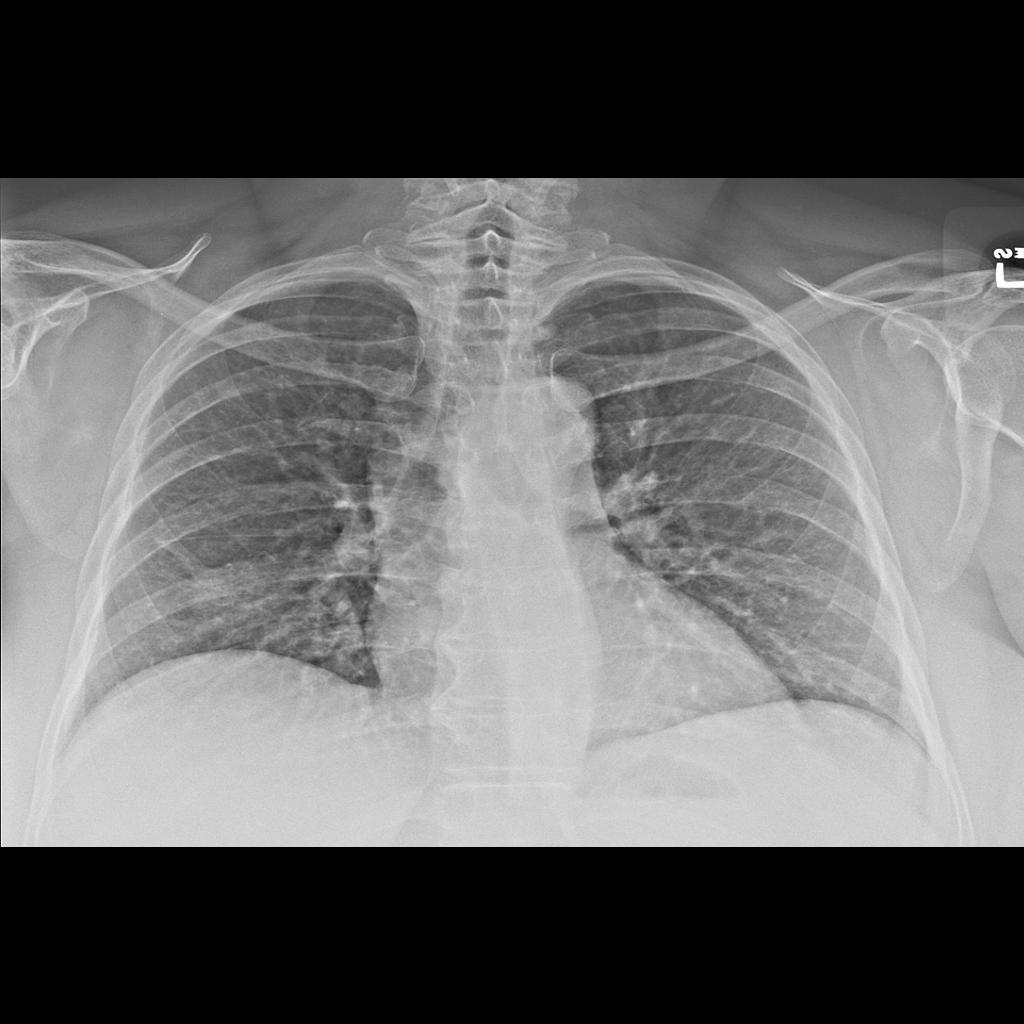Nodule: (179, 572, 230, 612)
